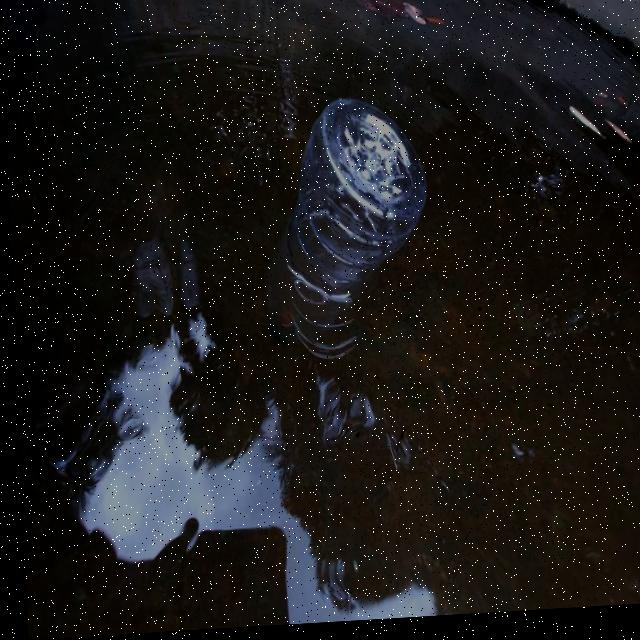leaf: (324, 0, 451, 42)
waterbottle: (241, 97, 429, 355)
